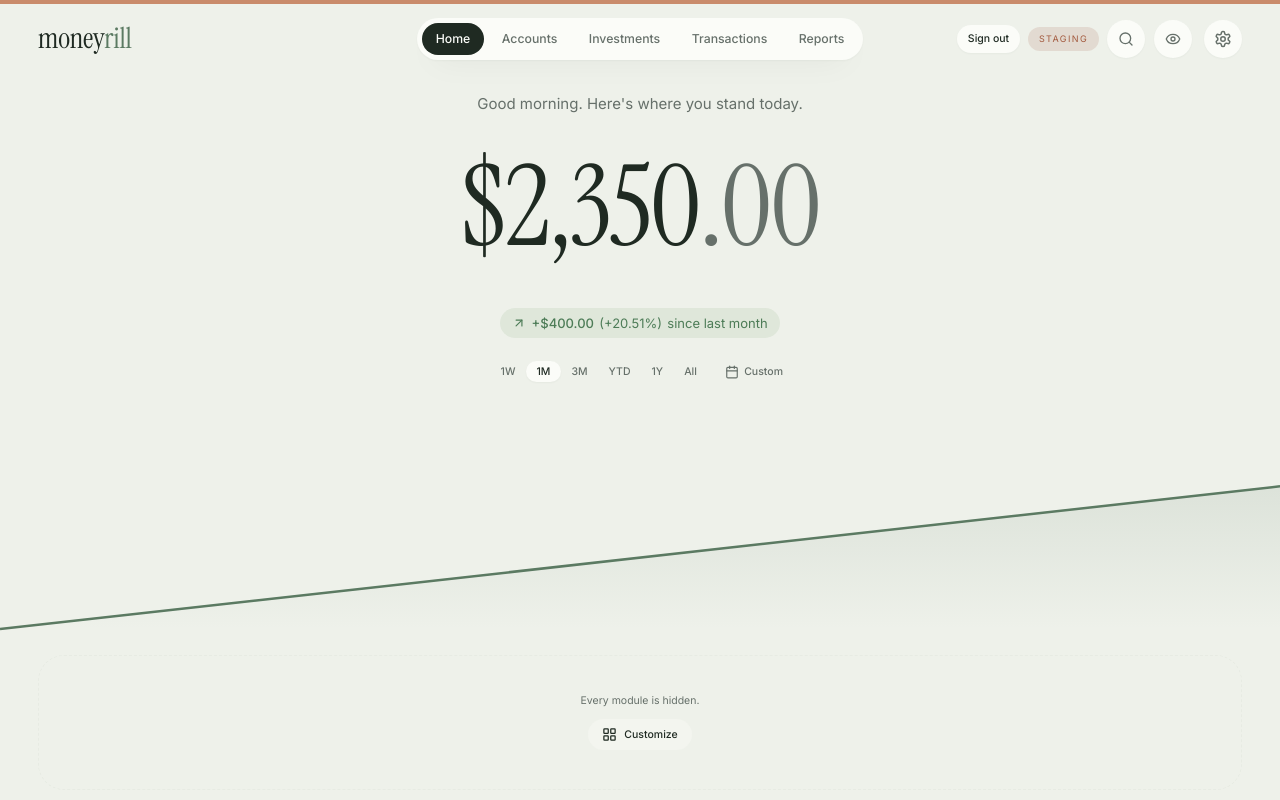
Test: Customize Home › with every module hidden Home offers a way back
Expected: the text "Every module is hidden." is shown, [581, 694, 700, 707]
Click the button "Customize" at point(640, 735), box [588, 719, 692, 750]
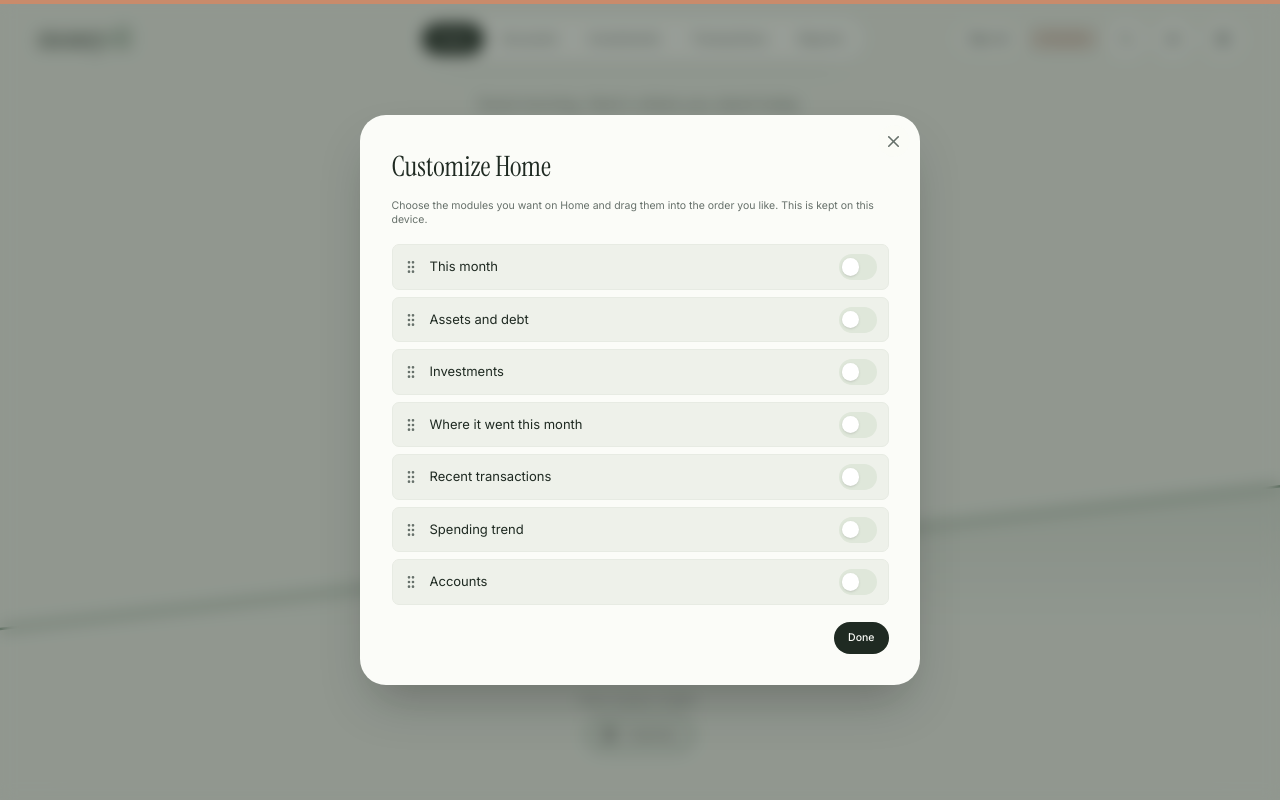
Expected: the dialog "Customize Home" is shown, [360, 115, 920, 685]
